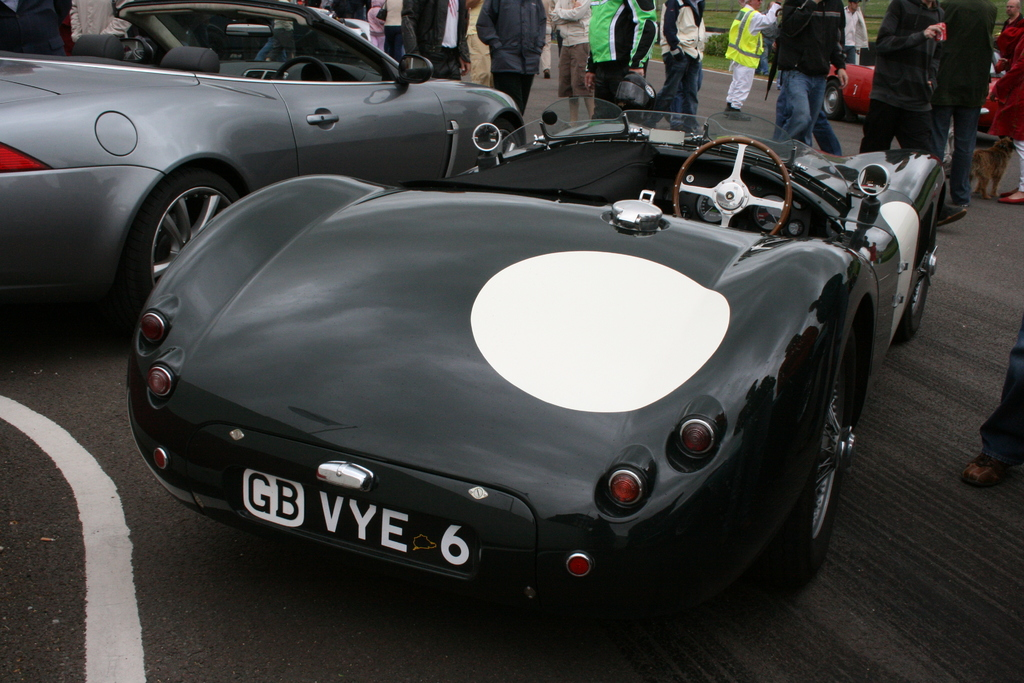Car: (125, 98, 947, 608), (0, 0, 526, 303)
